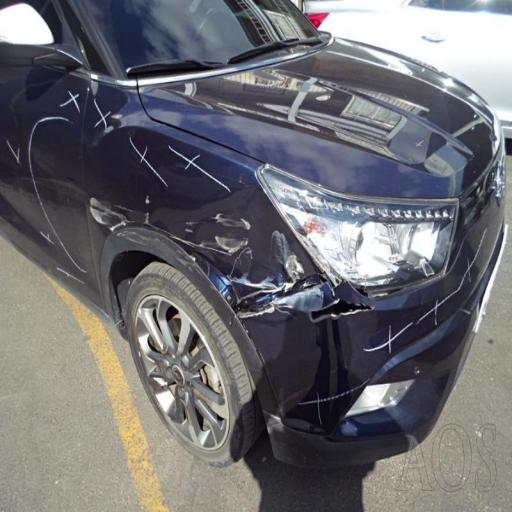broken: (214, 184, 399, 363)
scratch: (55, 107, 242, 271)
